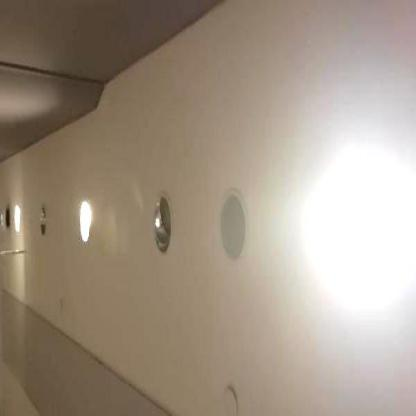light_off: (138, 182, 195, 269), (35, 190, 58, 253)
